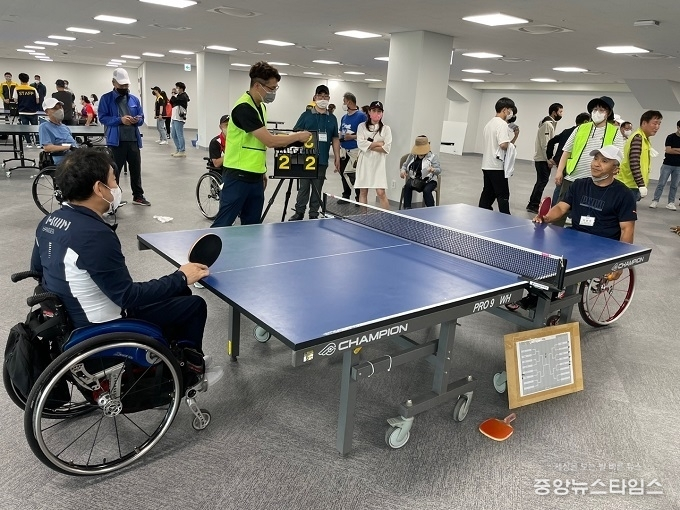wheelchair: (2, 150, 213, 477)
